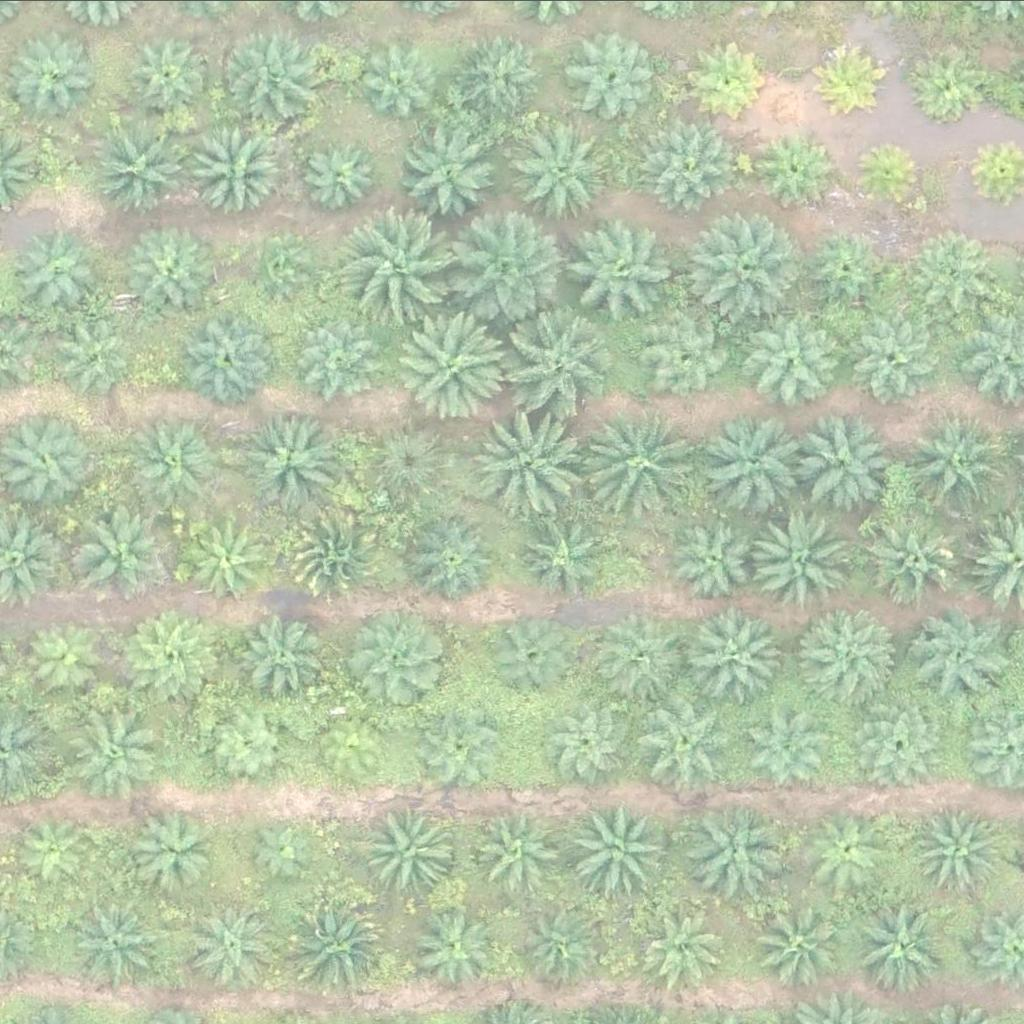Kelapa_Sawit: (477, 407, 591, 520), (454, 212, 567, 325), (564, 211, 677, 324), (687, 210, 800, 323), (500, 301, 613, 414), (396, 305, 509, 418), (591, 411, 704, 524), (344, 206, 458, 318), (220, 31, 321, 131), (508, 122, 609, 222), (180, 304, 281, 404), (237, 412, 338, 512), (707, 415, 808, 515), (790, 410, 891, 510), (907, 411, 1008, 511), (755, 508, 856, 608), (792, 604, 893, 704), (683, 799, 784, 899), (849, 897, 950, 997), (287, 892, 388, 992), (71, 699, 172, 799), (118, 602, 219, 702), (66, 503, 167, 603), (122, 412, 223, 512), (88, 115, 189, 215), (187, 117, 287, 217), (403, 123, 503, 223), (349, 608, 449, 708), (284, 499, 384, 599), (910, 603, 1010, 703), (638, 687, 738, 787), (357, 798, 457, 898), (566, 798, 666, 898), (751, 890, 851, 990), (802, 225, 890, 313), (920, 225, 1008, 313), (353, 34, 441, 122), (370, 422, 458, 510), (486, 610, 574, 698), (516, 517, 604, 605), (758, 315, 846, 403), (850, 314, 938, 402), (301, 313, 389, 401), (186, 517, 274, 605), (409, 512, 497, 600), (666, 512, 754, 600), (548, 696, 636, 784), (751, 704, 839, 792), (855, 700, 943, 788), (413, 906, 501, 994), (918, 798, 1006, 886), (637, 901, 725, 989), (70, 899, 158, 987), (17, 228, 105, 316), (207, 699, 295, 787), (458, 32, 546, 119), (638, 122, 726, 209), (569, 35, 657, 122), (647, 310, 735, 397), (872, 518, 960, 605), (237, 618, 325, 705), (595, 612, 683, 699), (419, 704, 507, 791), (696, 609, 784, 696), (467, 802, 555, 889), (805, 805, 893, 892), (516, 896, 604, 983), (184, 896, 272, 983), (131, 807, 219, 894), (320, 708, 408, 795), (17, 610, 105, 697), (53, 312, 141, 399), (133, 222, 221, 309), (125, 29, 213, 116), (7, 29, 95, 116), (303, 137, 379, 212), (908, 53, 984, 128), (812, 38, 888, 113), (12, 812, 88, 887), (244, 811, 319, 886), (754, 128, 829, 203), (851, 136, 926, 211), (690, 38, 765, 113), (247, 239, 310, 301)
